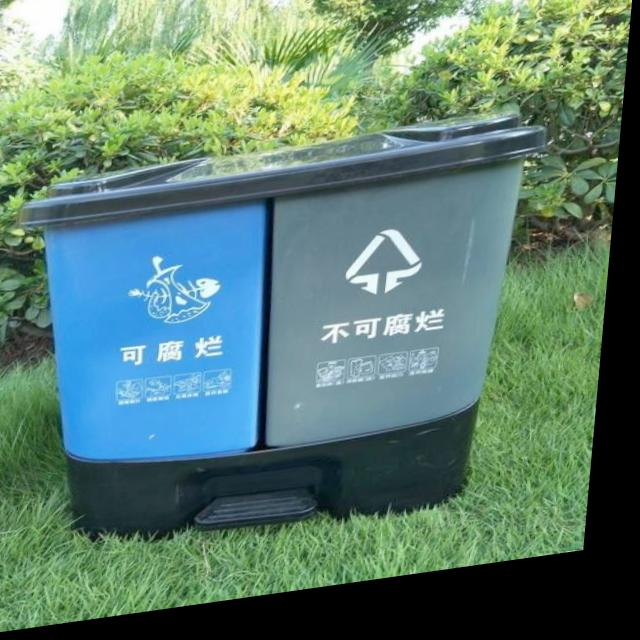garbage_bin: (0, 124, 548, 572)
